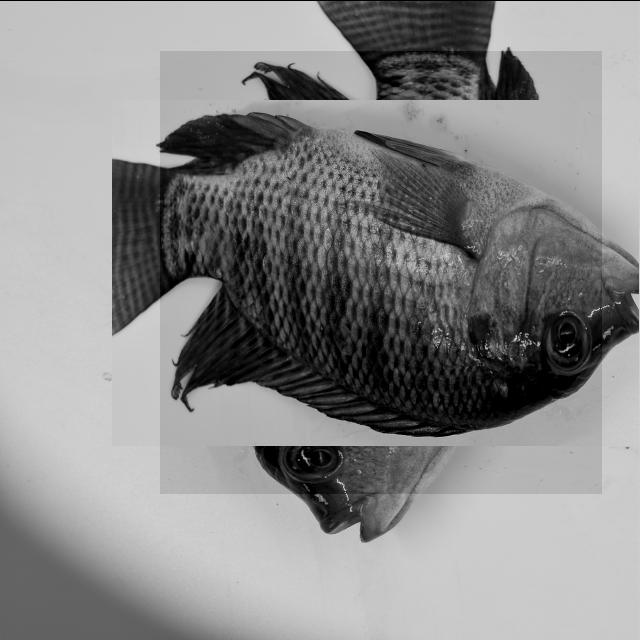Columnaris Disease: (160, 50, 602, 493)
